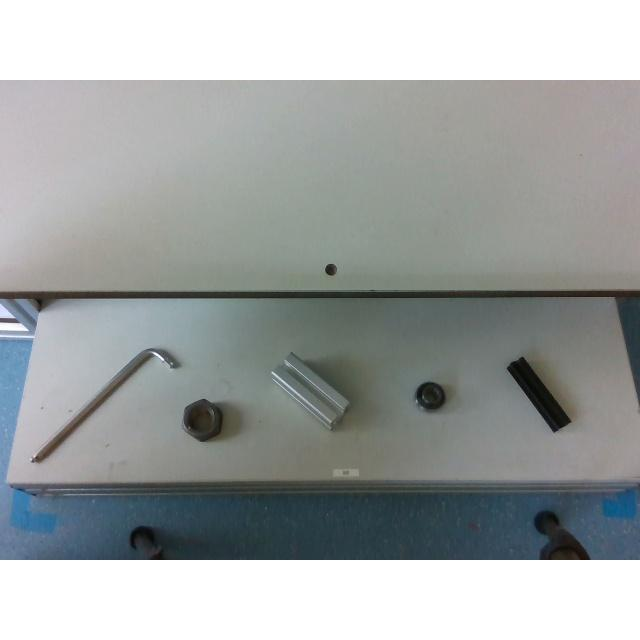AllenKey: (30, 348, 178, 462)
Bearing2: (415, 382, 445, 410)
F20_20_B: (506, 357, 570, 431)
M30: (182, 399, 222, 441)
S40_40_G: (270, 353, 350, 429)
